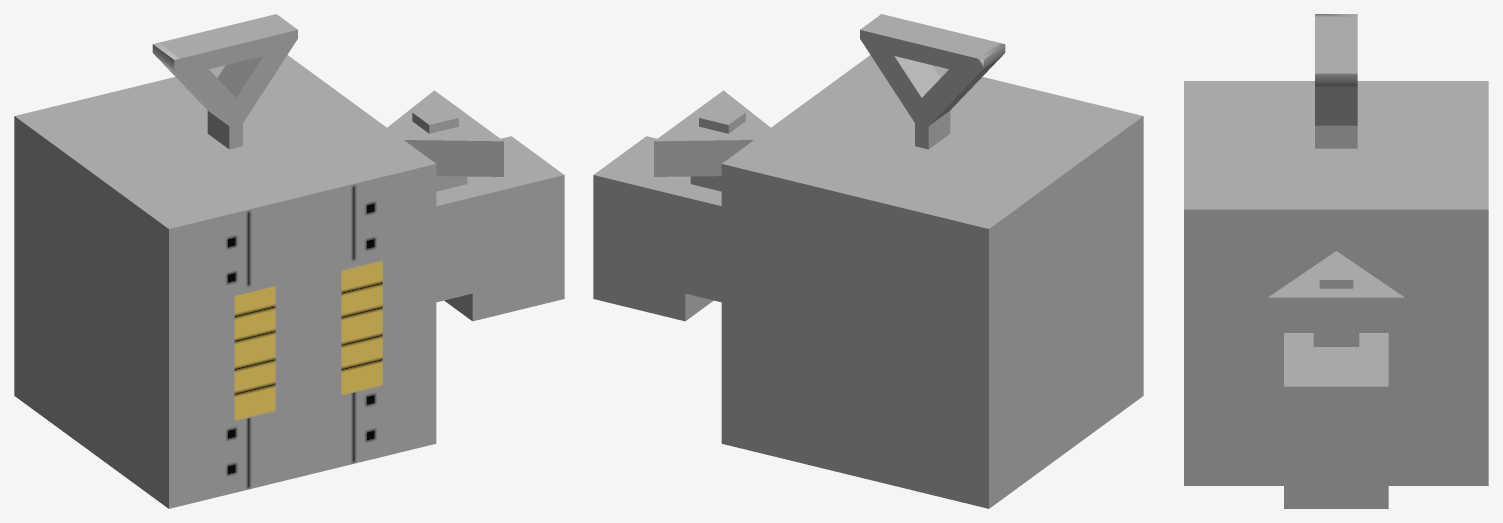
File: antena-zyaguti.glb
The picture shows the model from 3 angles, left to right: view 1: azimuth 30°, elevation 25°; view 2: azimuth 150°, elevation 25°; view 3: azimuth 270°, elevation 25°; orthographic projection.
Parts seen in each view (by area): view 1: haco_antena:pCube1, pCube4, haco_antena:pPlane8, pPlane5, haco_antena:pPlane2, haco_antena:pPlane1; view 2: haco_antena:pCube1, pCube4, haco_antena:pPlane8, pPlane5; view 3: haco_antena:pCube1, pCube4, pPlane5, haco_antena:pPlane8, pCube5.
Part boxes in pixels (bbox=[...]): haco_antena:pCube1: bbox=[14, 55, 436, 508]; pCube4: bbox=[436, 136, 564, 321]; haco_antena:pPlane8: bbox=[152, 14, 297, 149]; pPlane5: bbox=[387, 90, 503, 176]; haco_antena:pPlane2: bbox=[341, 260, 382, 395]; haco_antena:pPlane1: bbox=[234, 286, 275, 421]; haco_antena:pCube1: bbox=[721, 55, 1143, 508]; pCube4: bbox=[593, 136, 721, 321]; haco_antena:pPlane8: bbox=[860, 14, 1005, 149]; pPlane5: bbox=[654, 90, 770, 176]; haco_antena:pCube1: bbox=[1184, 81, 1488, 485]; pCube4: bbox=[1284, 333, 1388, 508]; pPlane5: bbox=[1267, 251, 1404, 332]; haco_antena:pPlane8: bbox=[1315, 14, 1357, 148]; pCube5: bbox=[1313, 333, 1359, 346].
Bounding box in the file's own units: 0.0834 × 0.0684 × 0.0519.
2 materials, 2 textured.
